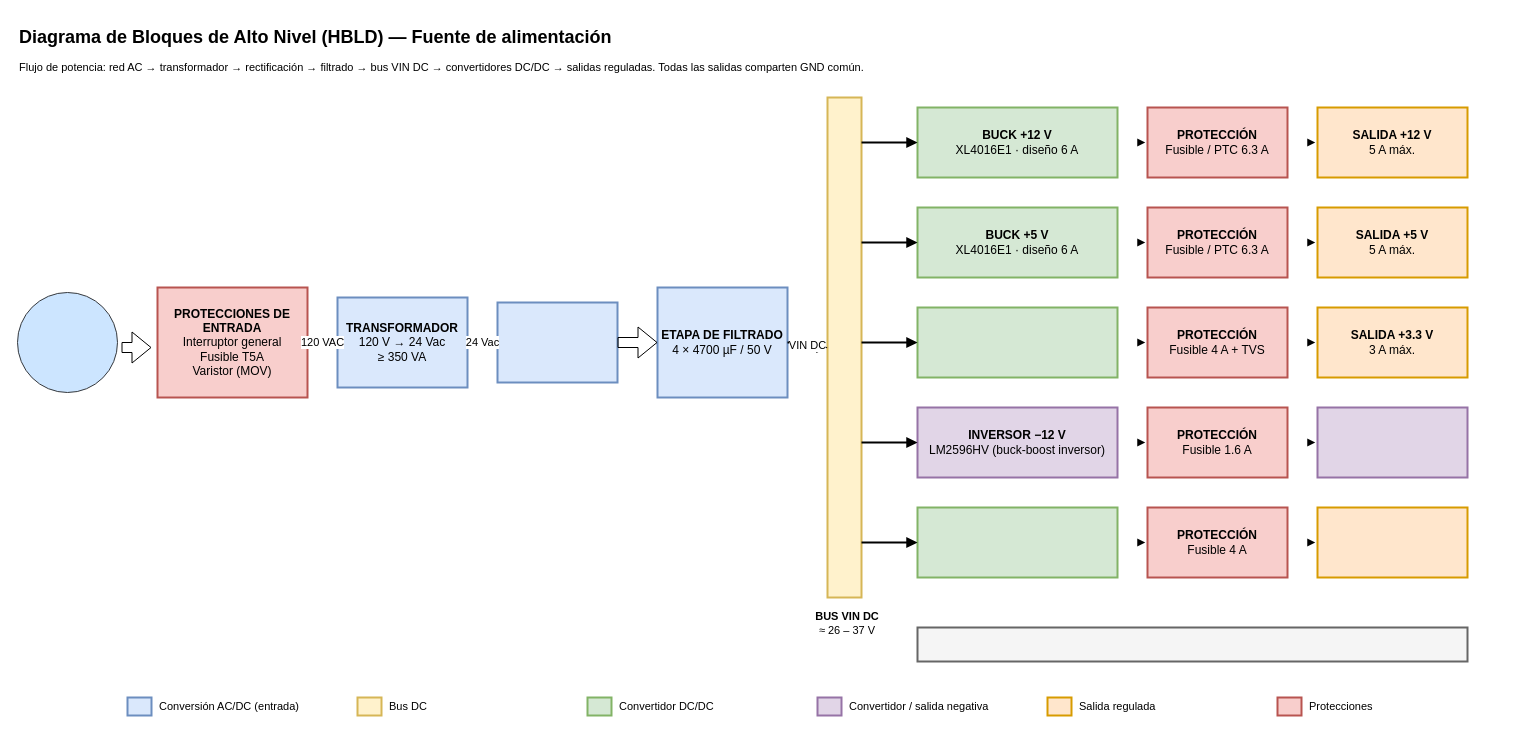
Some shapes in this 1520 by 735 pixel diagram are drawn without their labels. Each missing label, with the box of its shape:
BUCK +3.3 V LM2678 · diseño 3.6 A: (916, 306, 1118, 378)
BUCK AJUSTABLE LM2678-ADJ + potenciómetro: (916, 506, 1118, 578)
ENTRADA AC 120 VAC / 60 Hz: (16, 292, 118, 392)
GND COMÚN — referencia de todas las salidas: (916, 626, 1468, 662)
RECTIFICADOR Puente de diodos ≥ 15 A, ≥ 100 V: (496, 301, 618, 383)
SALIDA VARIABLE 1.25–15 V 3 A máx.: (1316, 506, 1468, 578)
SALIDA −12 V 1 A máx.: (1316, 406, 1468, 478)
